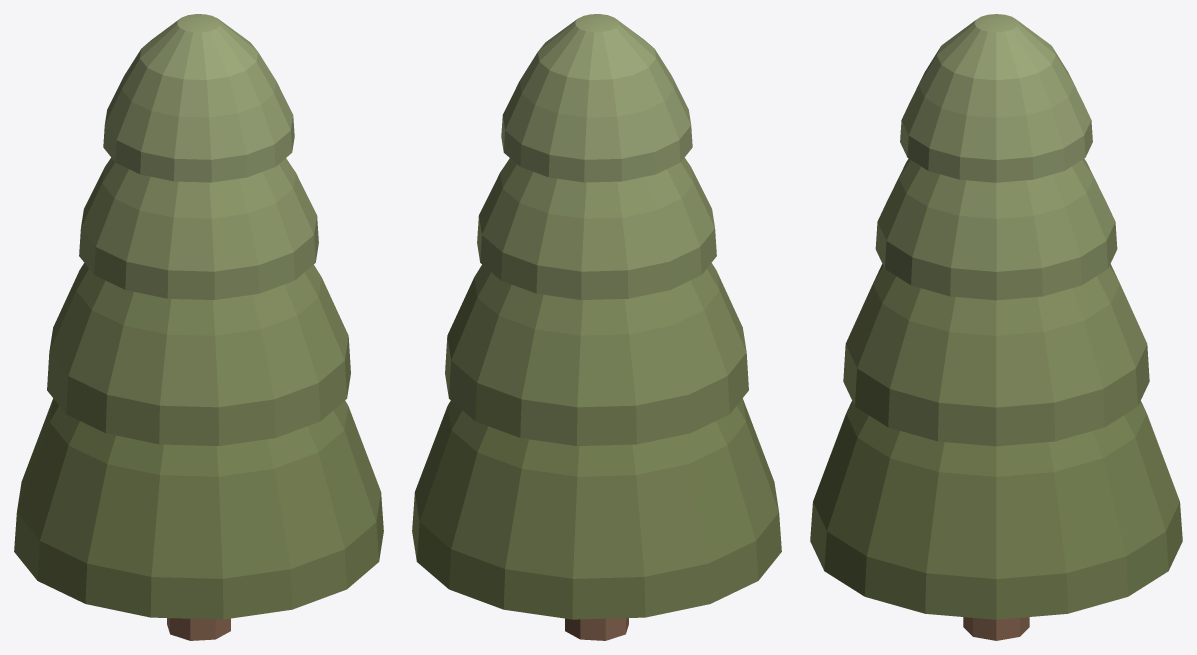
File: fir_tree_23.fbx
The picture shows the model from 3 angles, left to right: view 1: azimuth 30°, elevation 25°; view 2: azimuth 150°, elevation 25°; view 3: azimuth 270°, elevation 25°; orthographic projection.
Visible parts, largest first — view 1: fir_tree_23; view 2: fir_tree_23; view 3: fir_tree_23.
Part boxes in pixels (box(x1,y1,x2,y2)): fir_tree_23: box(14, 14, 383, 640); fir_tree_23: box(412, 14, 781, 640); fir_tree_23: box(810, 14, 1182, 640).
Bounding box in the file's own units: 291 × 524 × 291.
